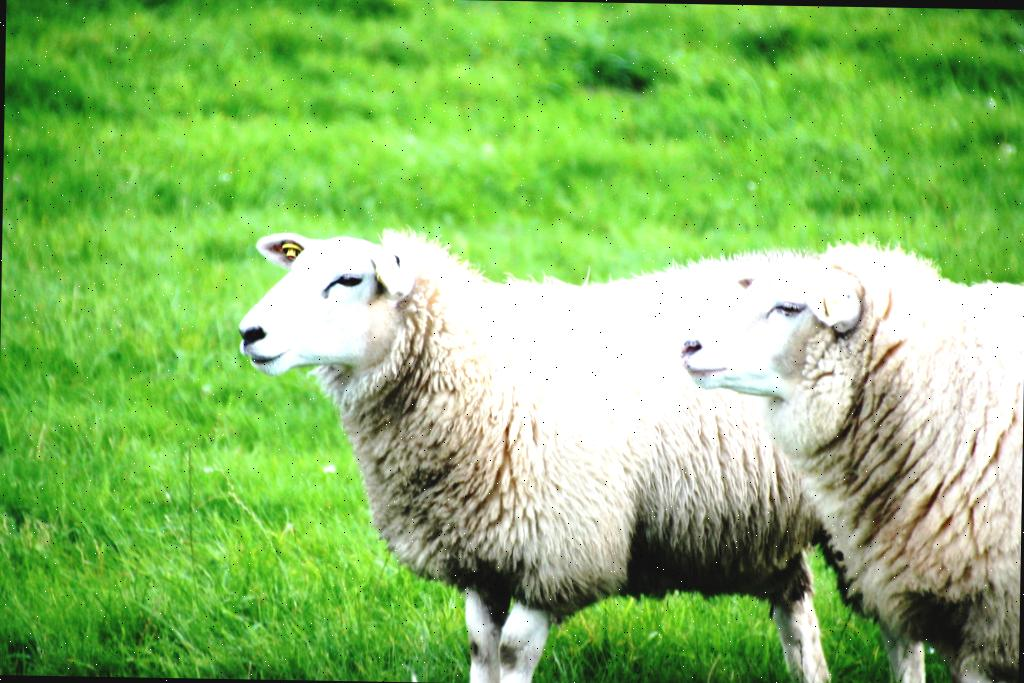Sheep: (230, 220, 829, 683), (672, 231, 1022, 683)
